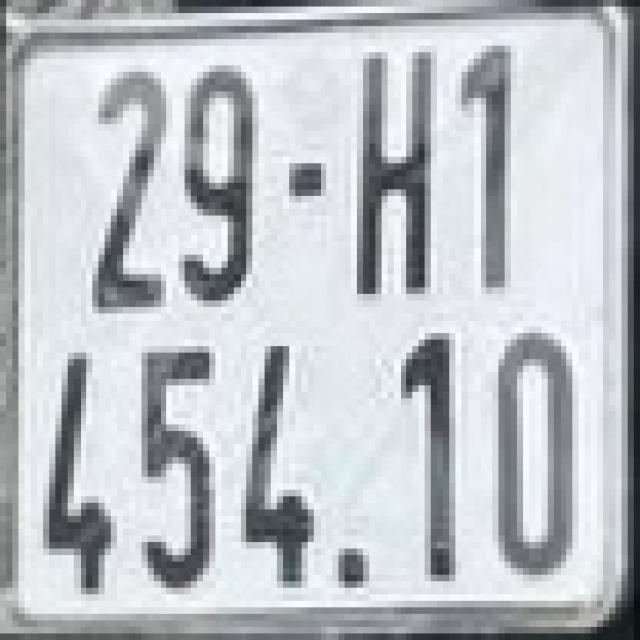0: (492, 326, 578, 574)
1: (394, 326, 468, 582), (455, 39, 523, 294)
2: (86, 66, 166, 306)
4: (240, 340, 320, 588), (43, 353, 117, 594)
5: (136, 346, 222, 588)
9: (178, 66, 258, 300)
H: (345, 46, 443, 294)
